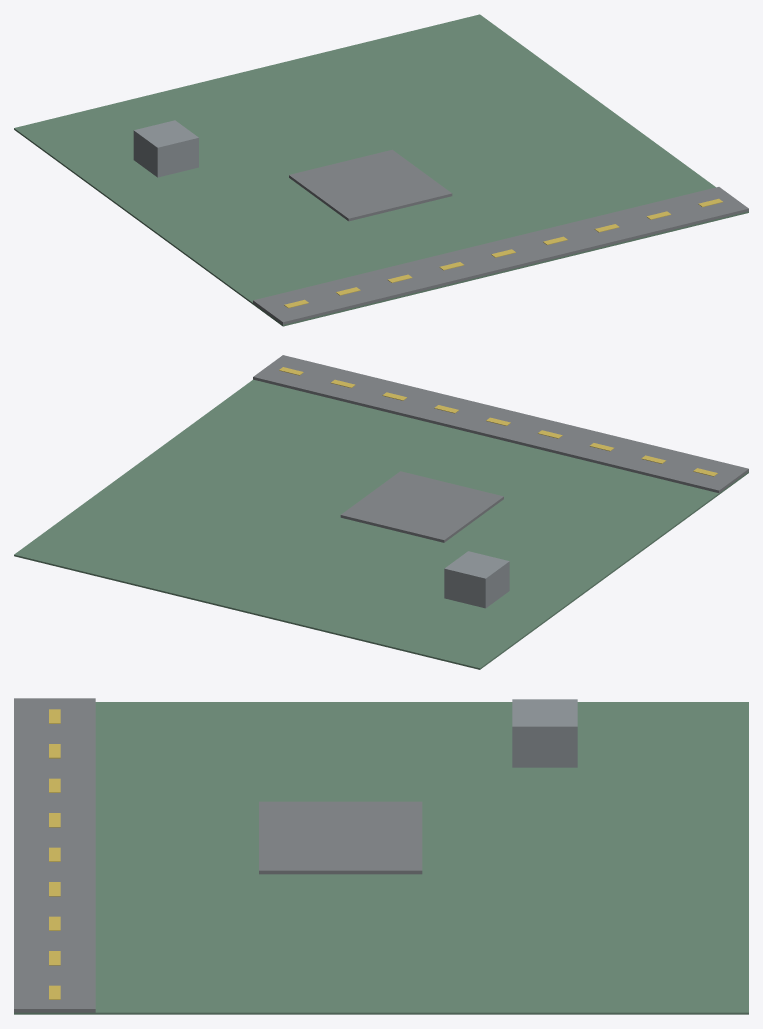
Rendered from stage_02.glb.
The picture shows the model from 3 angles, top to bottom: view 1: azimuth 30°, elevation 25°; view 2: azimuth 150°, elevation 25°; view 3: azimuth 270°, elevation 25°; orthographic projection. The views are drawn at different scales.
Visible parts, largest first — view 1: geometry_0; view 2: geometry_0; view 3: geometry_0.
Part boxes in pixels (x1=…): geometry_0: x1=14, y1=14, x2=748, y2=326; geometry_0: x1=14, y1=355, x2=748, y2=669; geometry_0: x1=14, y1=698, x2=748, y2=1014.
Size of the model in its own units: 9 by 0.58 by 9.
